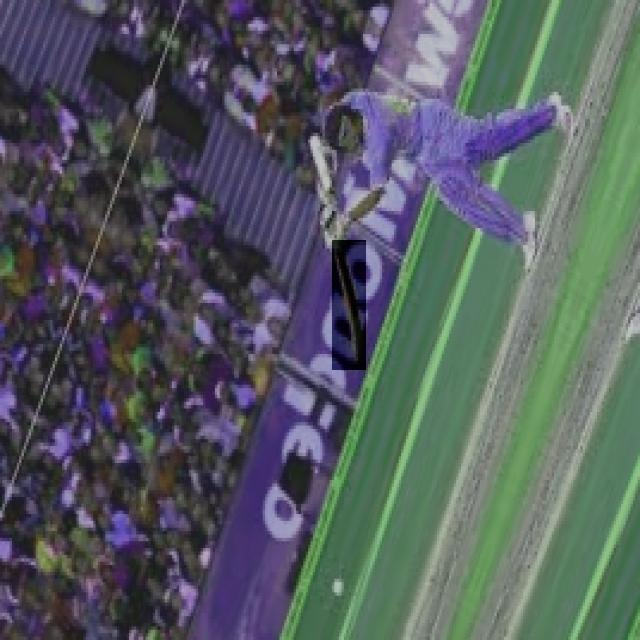bat: (332, 234, 372, 371)
